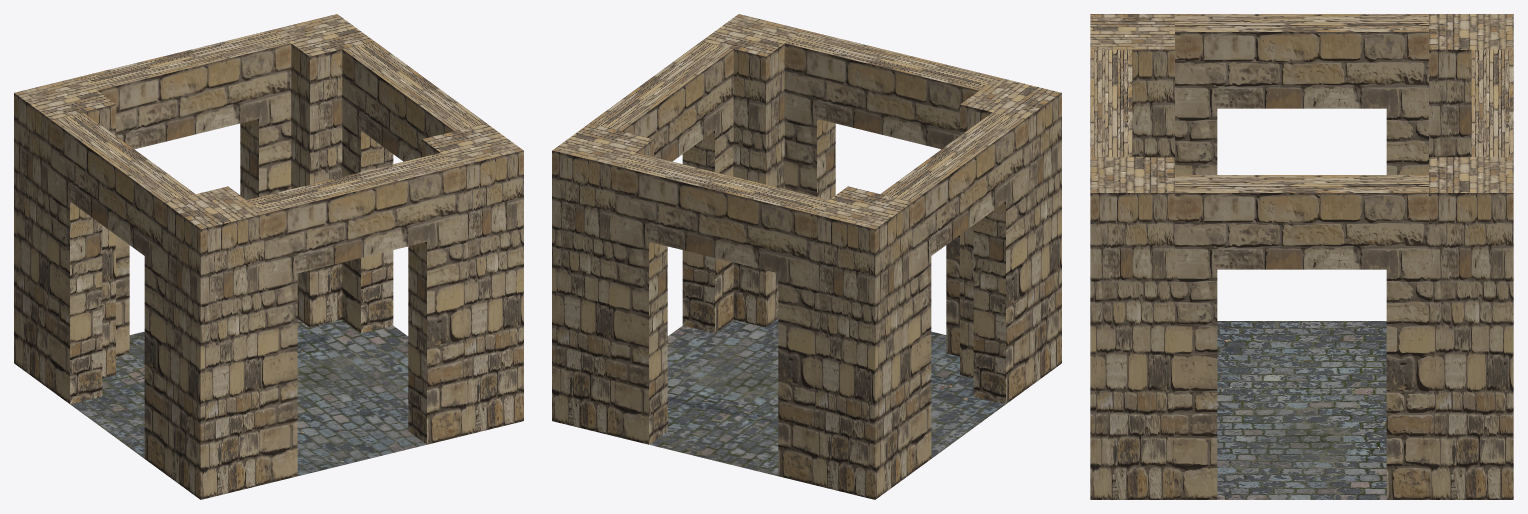
Rendered from 1_4doorSingle.fbx.
3 views of the same model, side by side, from view 1: azimuth 30°, elevation 25°; view 2: azimuth 150°, elevation 25°; view 3: azimuth 270°, elevation 25° (orthographic). The views are drawn at different scales.
Parts seen in each view (by area): view 1: Cube_1, Plane; view 2: Cube_1, Plane; view 3: Cube_1, Plane.
Part boxes in pixels (<box>): Cube_1: <box>14,14,523,499</box>; Plane: <box>70,319,426,475</box>; Cube_1: <box>552,14,1061,499</box>; Plane: <box>649,319,1005,475</box>; Cube_1: <box>1090,14,1513,499</box>; Plane: <box>1217,321,1386,499</box>.
Bounding box in the file's own units: 10 × 8 × 10.
2 materials, 2 textured.
